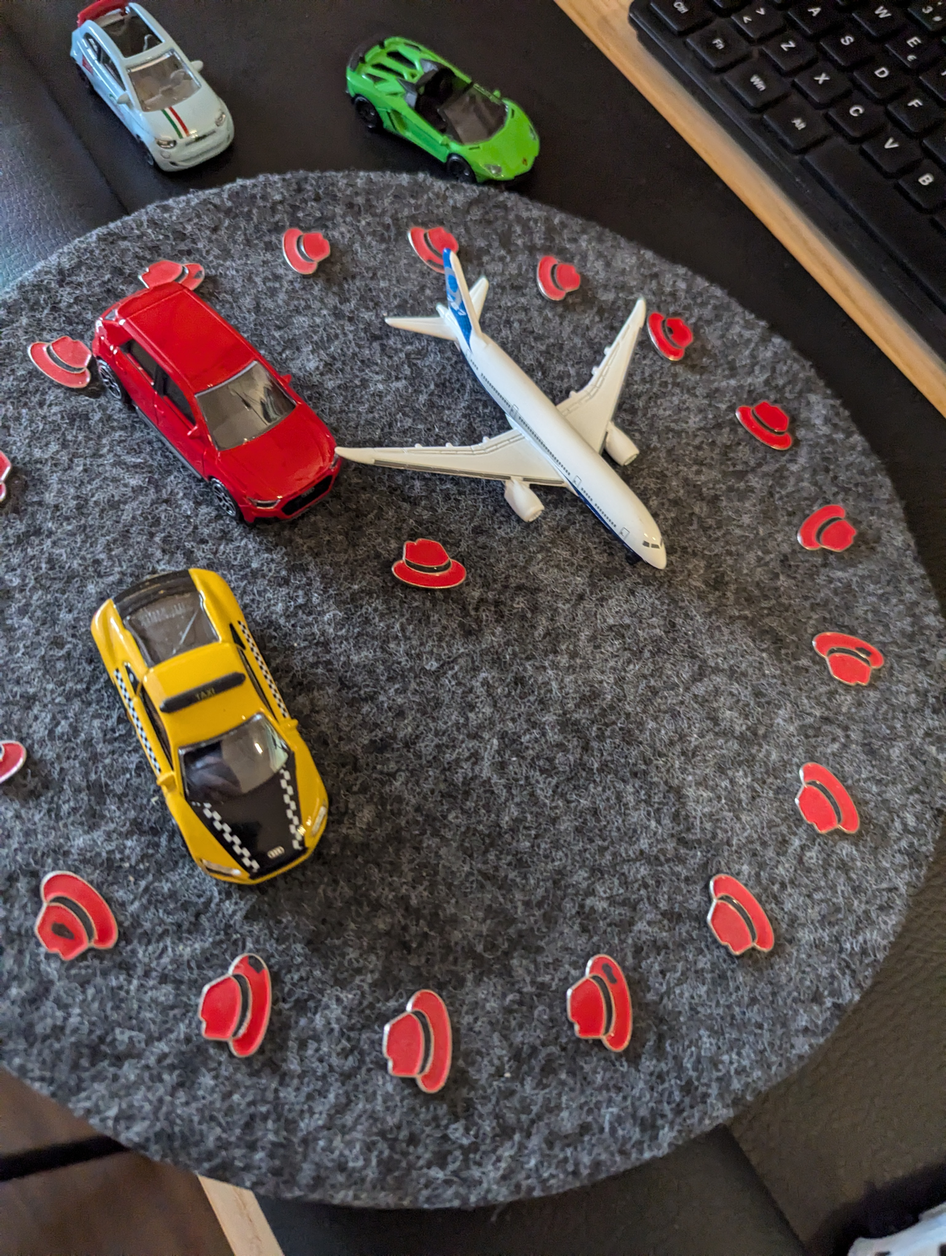Airplane: (332, 239, 691, 596)
Car: (56, 559, 355, 910), (74, 271, 403, 537), (325, 20, 567, 191), (42, 0, 262, 176)
Red-Hat: (544, 935, 668, 1083), (188, 924, 305, 1068), (23, 848, 125, 985), (372, 977, 459, 1116), (781, 742, 876, 852), (782, 615, 896, 705), (704, 869, 782, 984), (11, 315, 111, 401), (721, 366, 802, 465), (780, 494, 876, 571), (379, 530, 481, 597), (397, 208, 479, 288), (130, 246, 233, 305), (269, 212, 346, 285), (627, 294, 704, 367), (531, 241, 593, 320)
Scratch: (239, 937, 277, 985), (37, 907, 78, 946), (842, 634, 880, 672), (594, 953, 629, 992), (418, 251, 463, 281), (659, 313, 693, 335), (192, 257, 209, 295)
